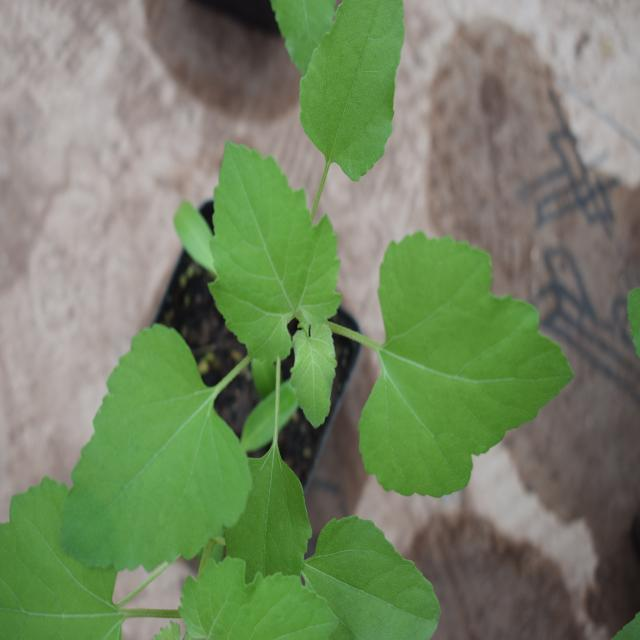cocklebur: (98, 36, 544, 562)
